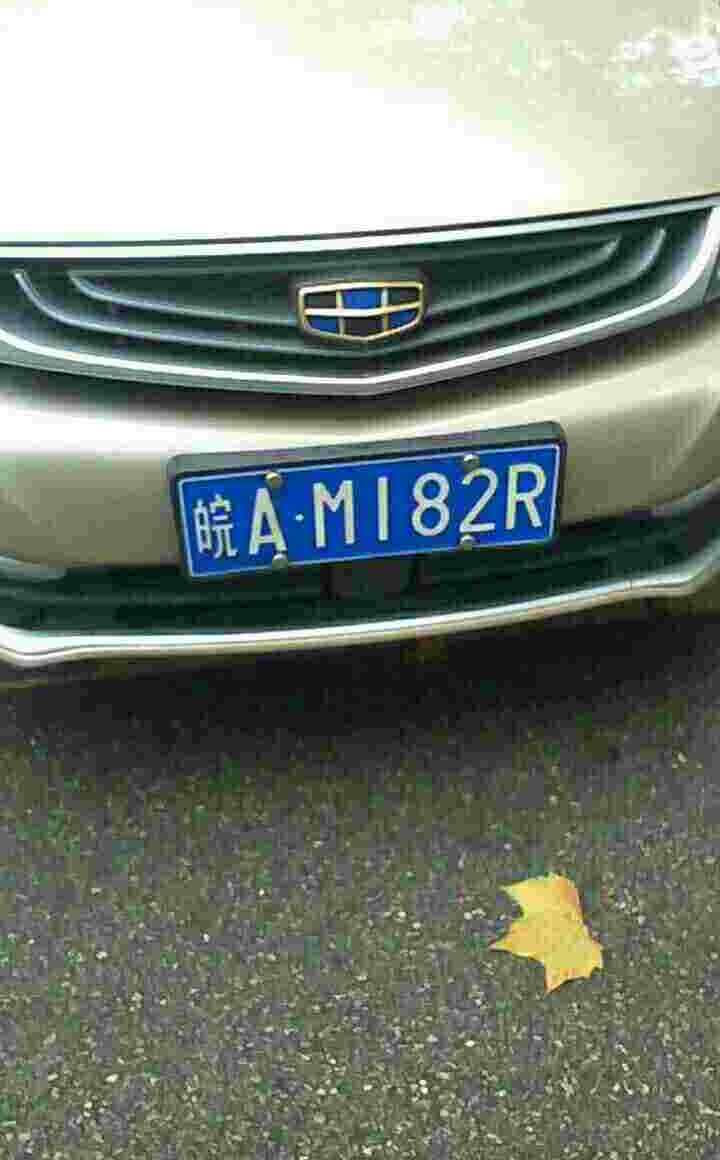license_plate: (167, 432, 567, 577)
